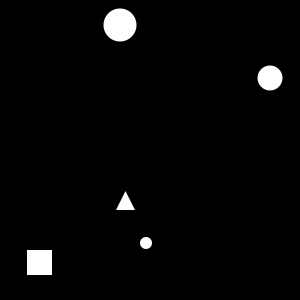circle: (27, 250, 52, 275)
rectangle: (104, 8, 136, 42), (258, 66, 282, 91), (140, 237, 152, 249)
triangle: (116, 191, 135, 210)
